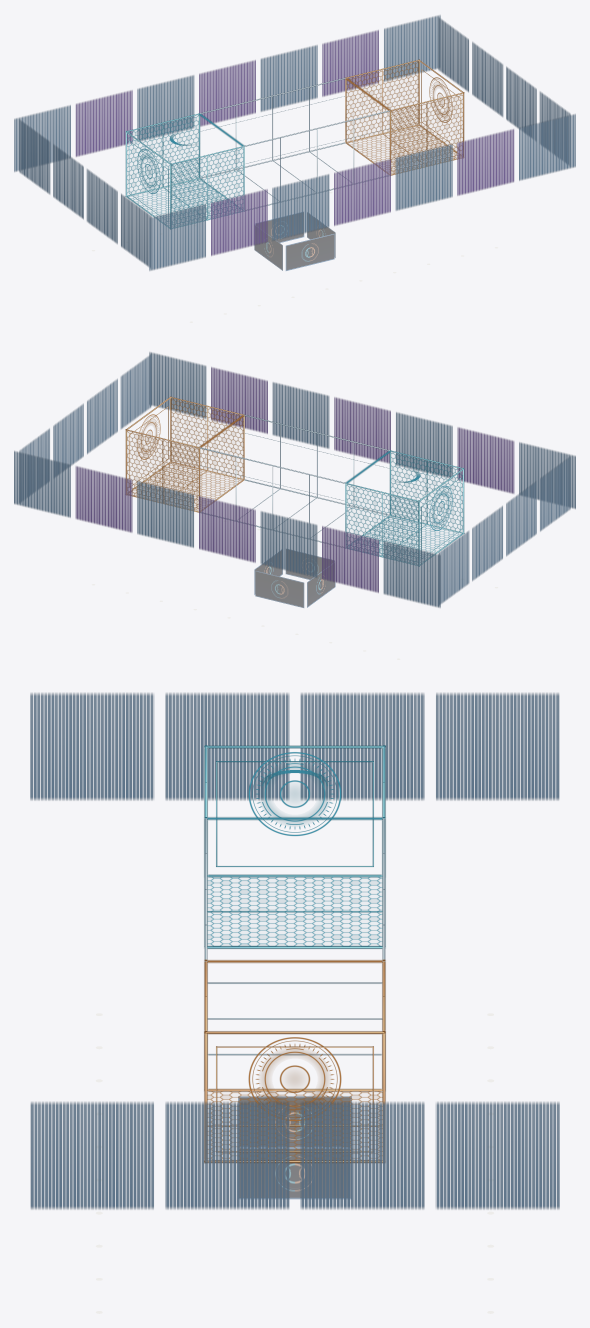
Rendered from A05_floor_reflect.glb.
The picture shows the model from 3 angles, top to bottom: view 1: azimuth 30°, elevation 25°; view 2: azimuth 150°, elevation 25°; view 3: azimuth 270°, elevation 25°; orthographic projection. The views are drawn at different scales.
Parts seen in each view (by area): view 1: floor_reflect; view 2: floor_reflect; view 3: floor_reflect.
Part boxes in pixels (x1,y1,x2,y2): floor_reflect: [14, 15, 575, 322]; floor_reflect: [14, 352, 575, 659]; floor_reflect: [30, 693, 559, 1313].
Bounding box in the file's own units: 27.7 × 8.9 × 15.2.
Materials: 14 (10 with a texture image).
